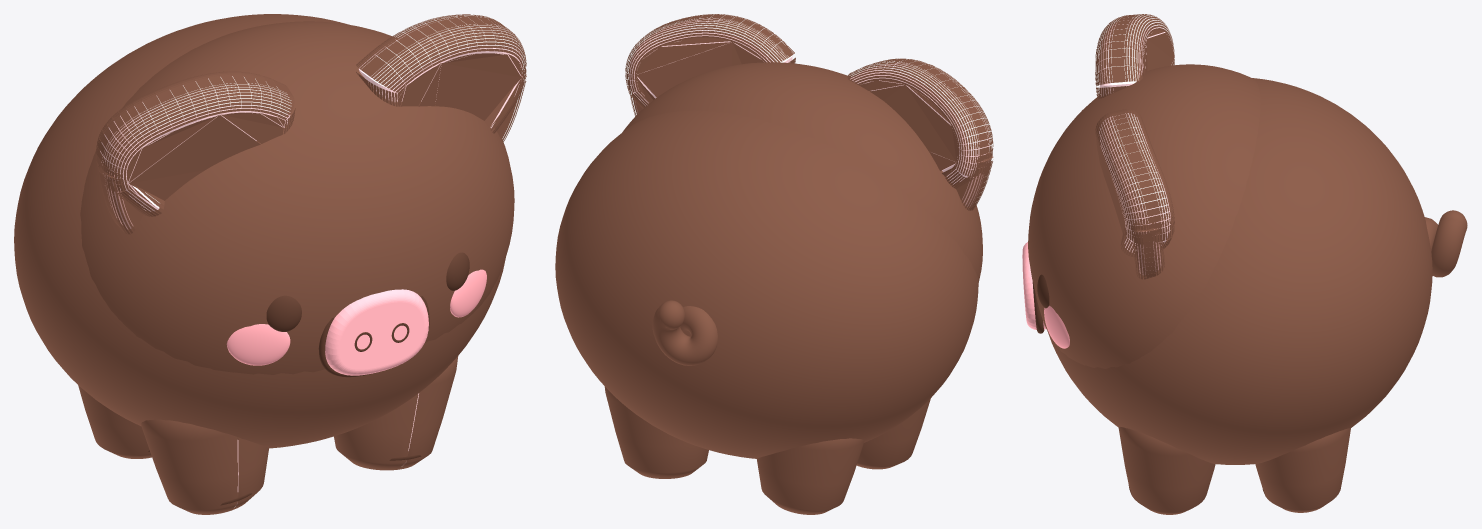
The model's file is chibi-pink-pig.glb.
3 views of the same model, side by side, from view 1: azimuth 30°, elevation 25°; view 2: azimuth 150°, elevation 25°; view 3: azimuth 270°, elevation 25° (orthographic). The views are drawn at different scales.
Parts seen in each view (by area): view 1: Chubby_Head_Face_Outline, Mesh_Outline (×5), Torso_Body_Outline, Pig_Snout_Main, Left_Ear_Flap, Right_Ear_Flap, Left_Blush, Left_Inner_Ear_Outline, Right_Blush, Left_Eye, Right_Eye, Right_Inner_Ear_Outline; view 2: Torso_Body_Outline, Mesh_Outline (×5), Chubby_Head_Face_Outline, Curly_Tail_Outline, Left_Ear_Flap, Right_Ear_Flap, Left_Inner_Ear_Outline; view 3: Torso_Body_Outline, Chubby_Head_Face_Outline, Mesh_Outline (×4), Right_Ear_Flap, Curly_Tail_Outline, Left_Ear_Flap, Right_Inner_Ear_Outline, Pig_Snout_Main, Right_Blush.
Part boxes in pixels (x1,y1,x2,y2): Chubby_Head_Face_Outline: (80, 21, 514, 374); Mesh_Outline (×5): (78, 14, 526, 514); Torso_Body_Outline: (14, 14, 505, 448); Pig_Snout_Main: (325, 289, 428, 375); Left_Ear_Flap: (100, 76, 291, 211); Right_Ear_Flap: (359, 19, 522, 128); Left_Blush: (226, 324, 290, 365); Left_Inner_Ear_Outline: (98, 160, 145, 234); Right_Blush: (450, 269, 486, 317); Left_Eye: (266, 295, 301, 331); Right_Eye: (446, 252, 469, 290); Right_Inner_Ear_Outline: (494, 70, 526, 142); Torso_Body_Outline: (555, 110, 978, 458); Mesh_Outline (×5): (604, 14, 993, 514); Chubby_Head_Face_Outline: (623, 62, 982, 282); Curly_Tail_Outline: (652, 300, 717, 365); Left_Ear_Flap: (850, 62, 989, 184); Right_Ear_Flap: (629, 18, 792, 105); Left_Inner_Ear_Outline: (955, 151, 993, 210); Torso_Body_Outline: (1048, 78, 1432, 464); Chubby_Head_Face_Outline: (1028, 64, 1260, 368); Mesh_Outline (×4): (1095, 14, 1350, 514); Right_Ear_Flap: (1099, 113, 1170, 253); Curly_Tail_Outline: (1424, 210, 1467, 277); Left_Ear_Flap: (1099, 18, 1165, 96); Right_Inner_Ear_Outline: (1132, 222, 1164, 279); Pig_Snout_Main: (1022, 242, 1046, 329); Right_Blush: (1044, 305, 1069, 348).
Size of the model in its own units: 2.4 by 2.34 by 2.4.
